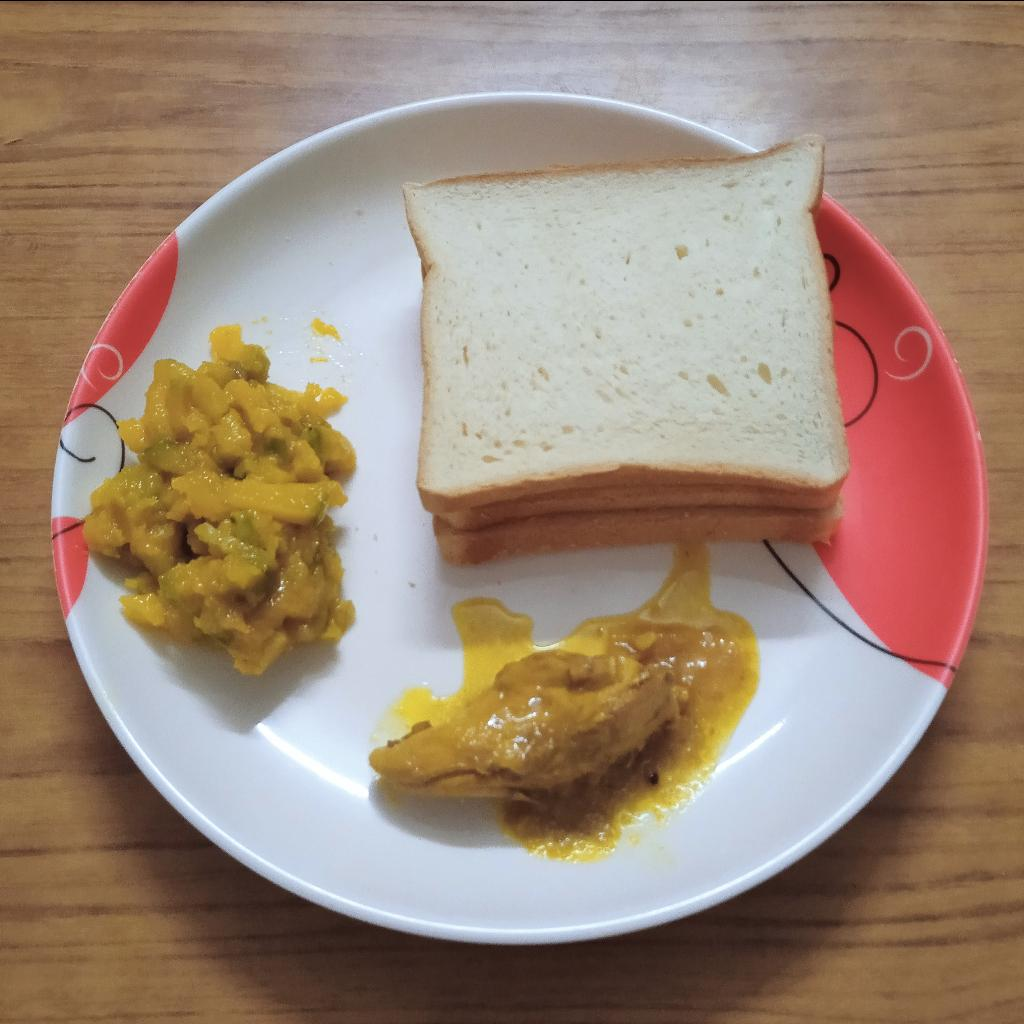bread: (403, 138, 848, 559)
chicken: (362, 656, 671, 793)
kumra-vaji: (80, 329, 354, 674)
